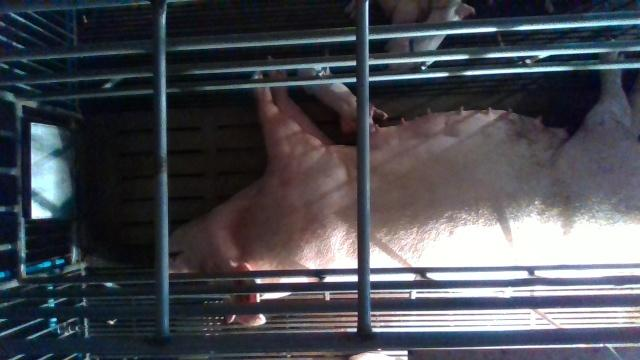piglet: (296, 49, 385, 133), (413, 0, 474, 70), (380, 2, 428, 71)
sow-sleep-lactate: (169, 40, 640, 326)
